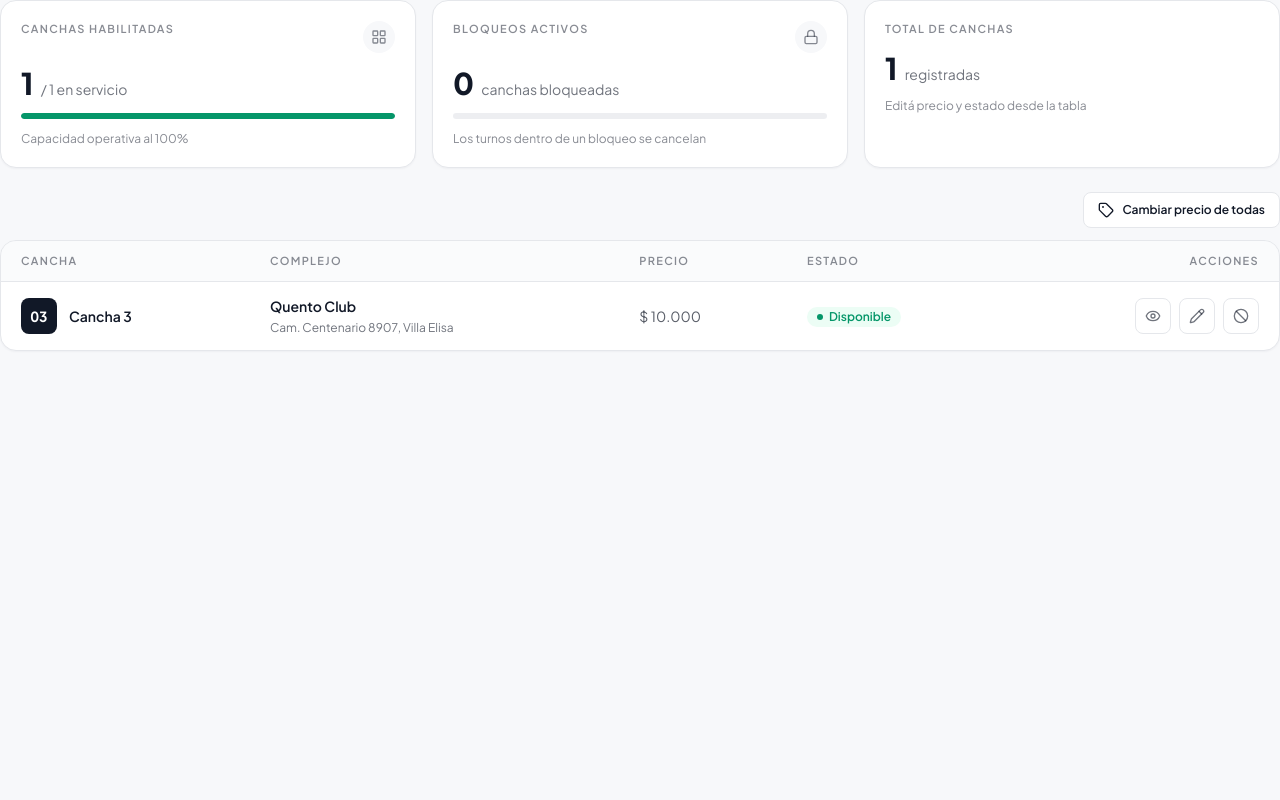
Test: CourtsTable › crea un bloqueo desde ahora y muestra la cancha fuera de servicio
Click the button named "Poner fuera de servicio la cancha 3".
click(1241, 316)  # box left=1223, top=298, right=1259, bottom=334
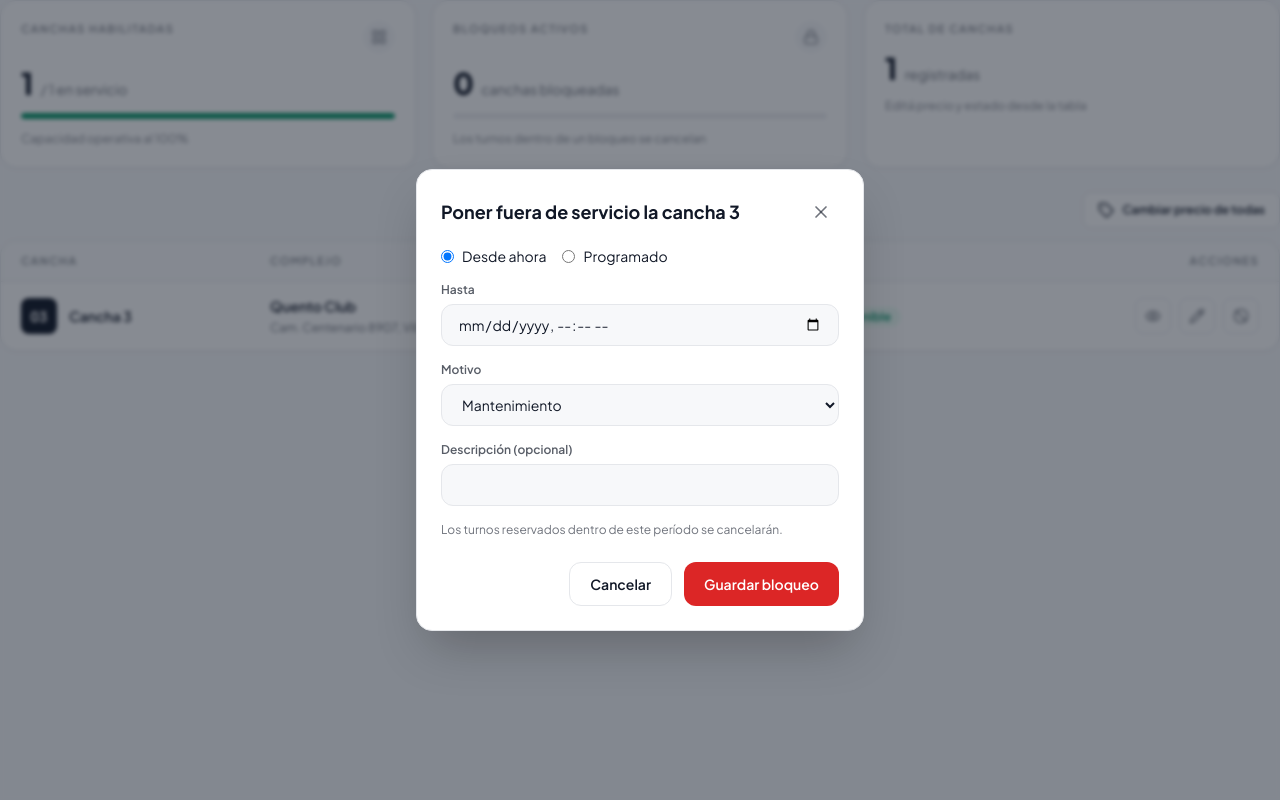
Type "2099-01-01T20:00" into the field labelled "Hasta".
click(640, 325); type("2099-01-01T20:00")  # box left=441, top=304, right=839, bottom=346
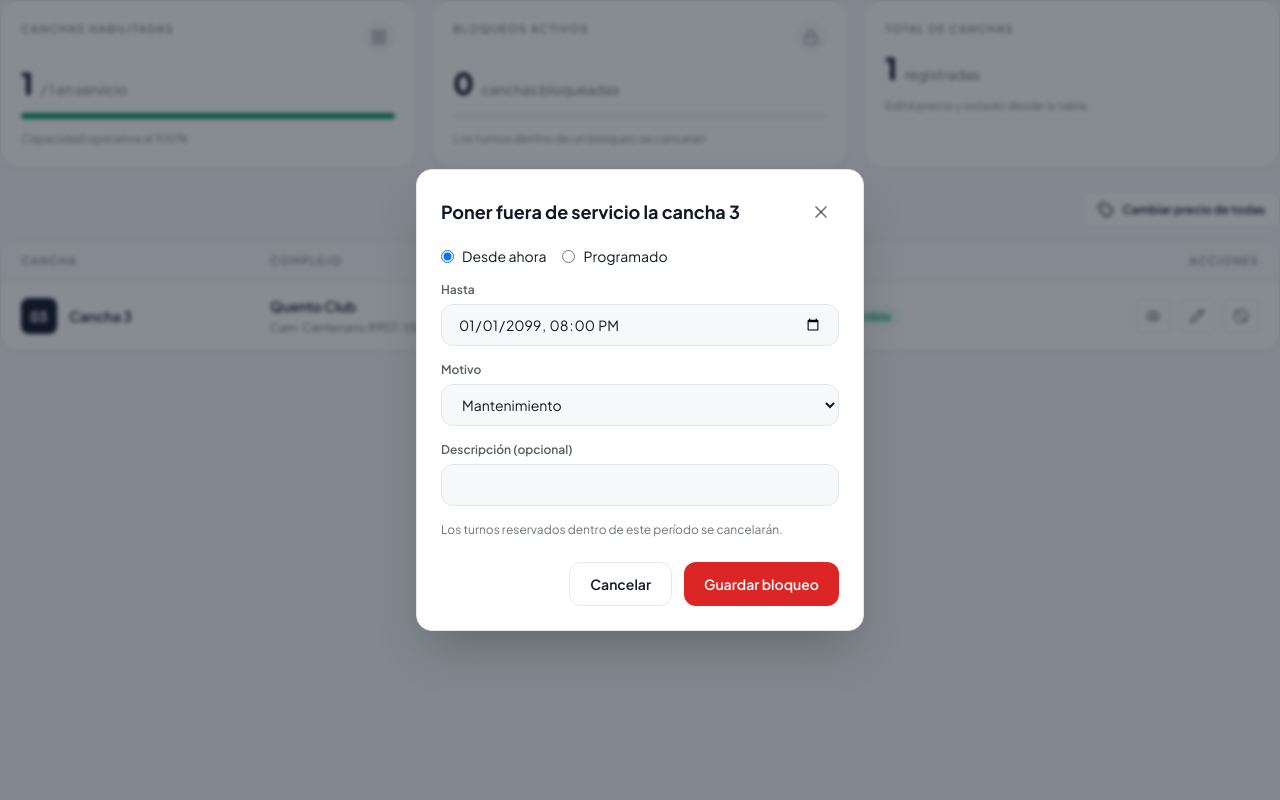
Select "Limpieza" in the dropdown labelled "Motivo" at (640, 405), box left=441, top=384, right=839, bottom=426
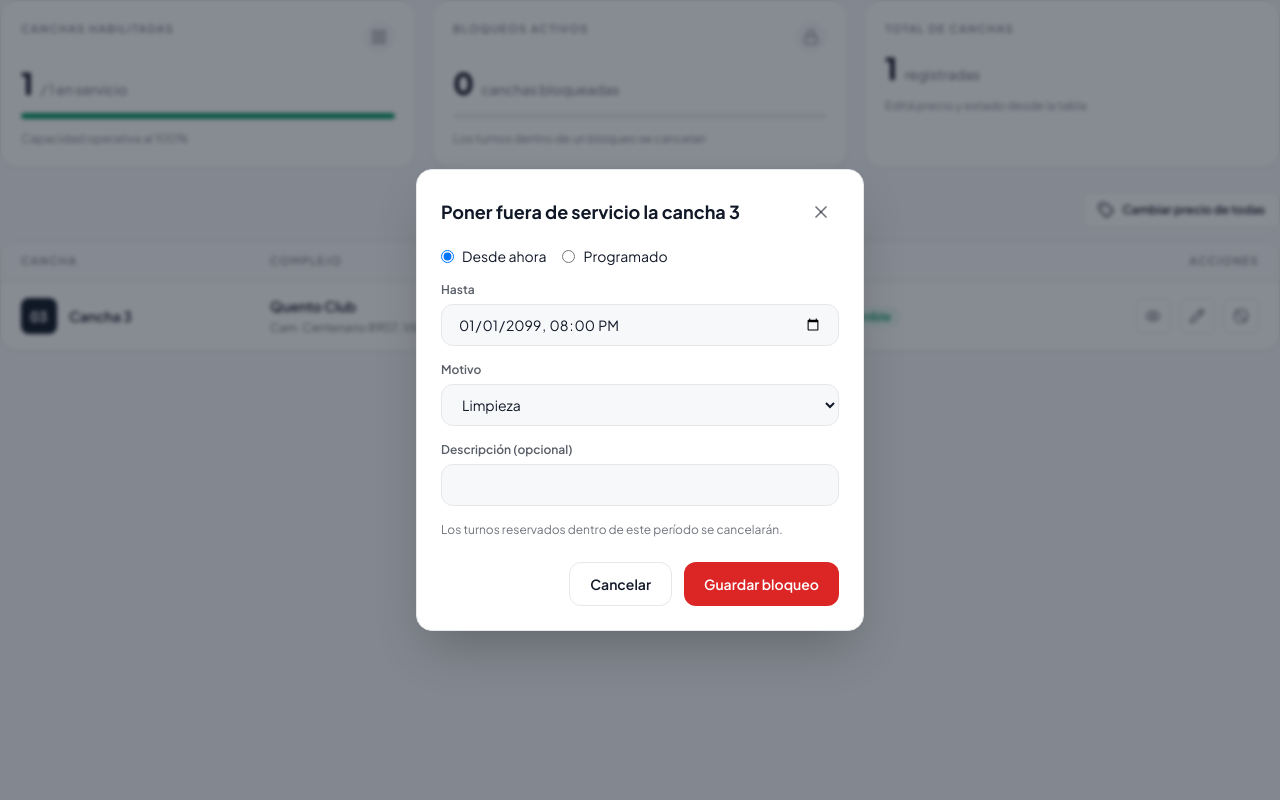
Type "Limpieza de vidrios" into the field labelled "Descripción (opcional)".
click(640, 485); type("Limpieza de vidrios")  # box left=441, top=464, right=839, bottom=506
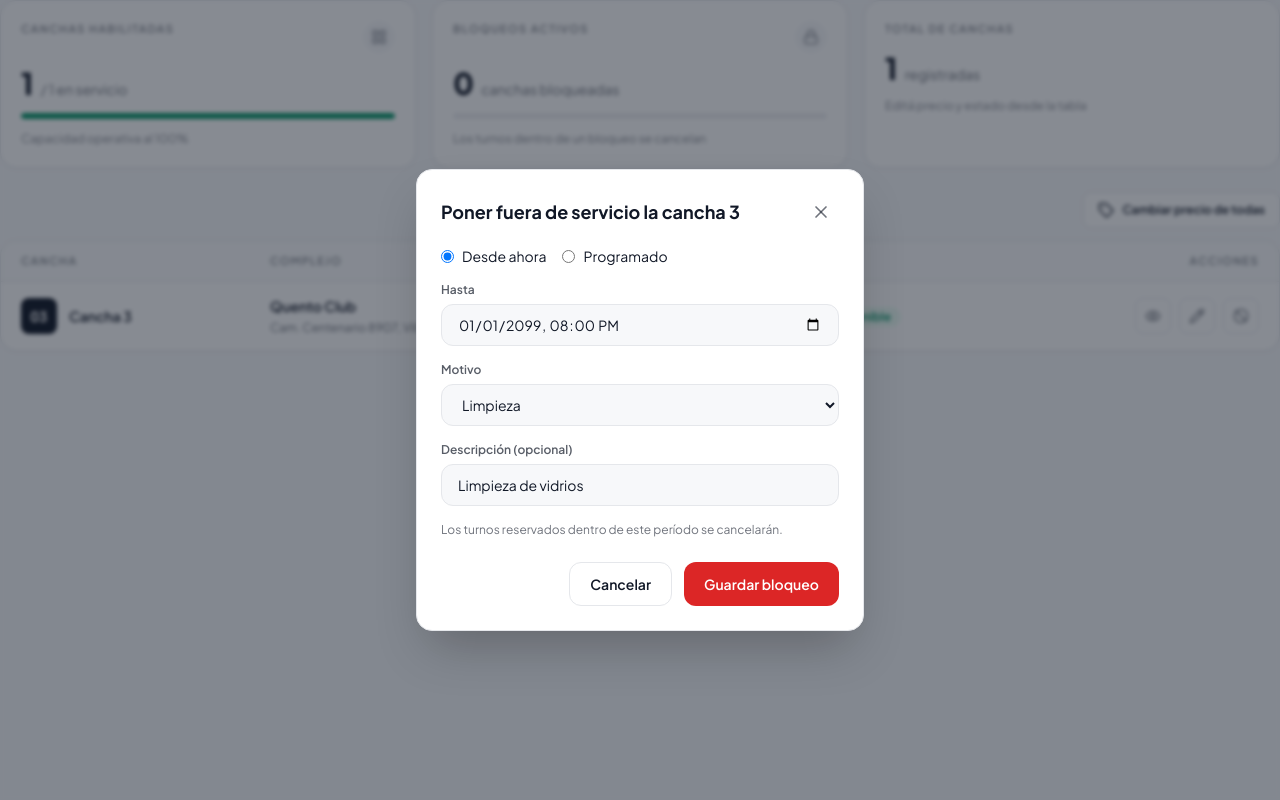
Click the button "Guardar bloqueo".
click(762, 584)  # box left=684, top=562, right=839, bottom=606
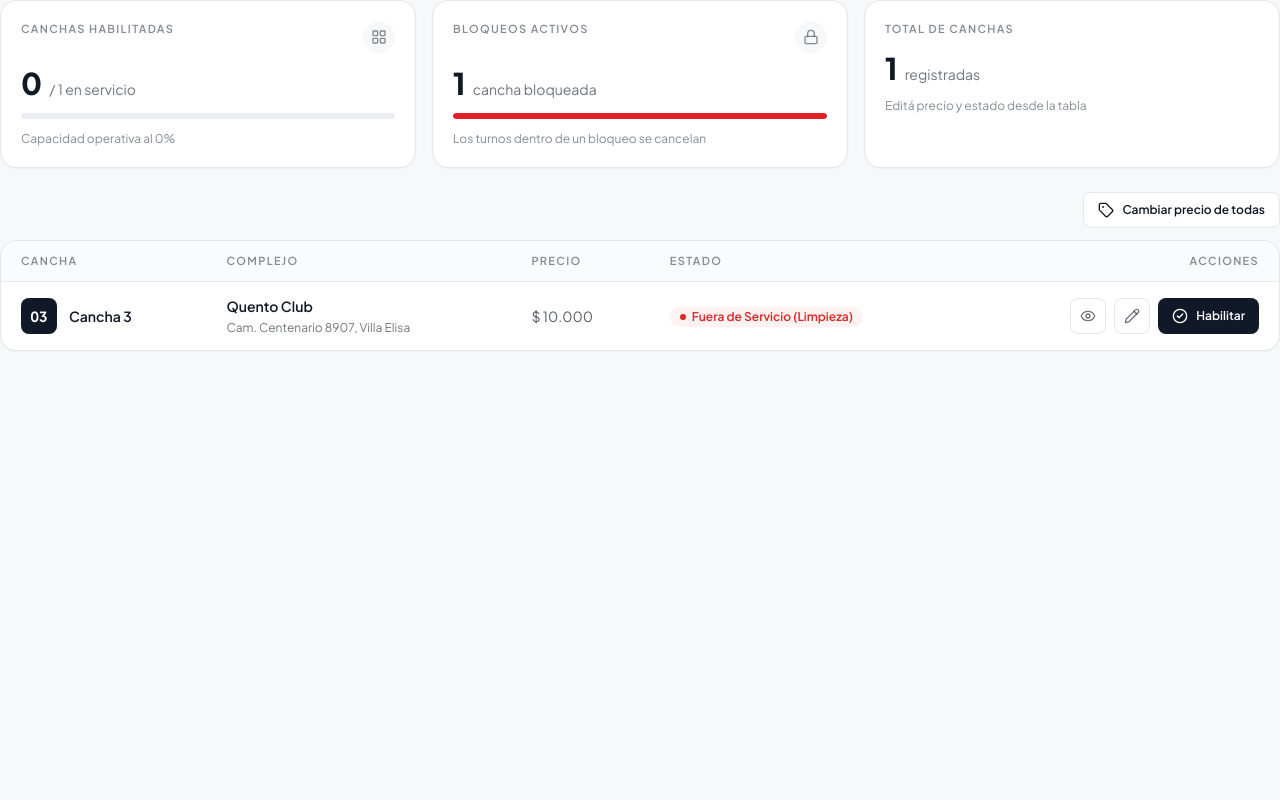
Check: the text "Fuera de Servicio (Limpieza)" is shown, box left=670, top=307, right=863, bottom=327
Check: the button with aria-label "Habilitar la cancha 3" is shown, box left=1158, top=298, right=1259, bottom=334
